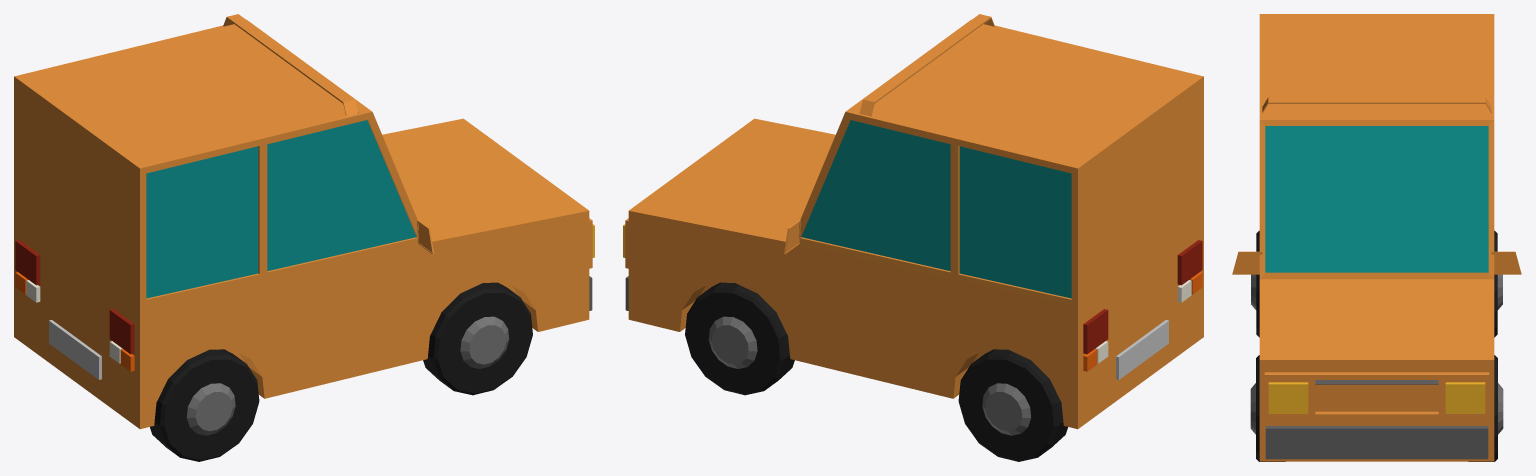
The model's file is car_2.gltf.
3 renders of one model, left to right at view 1: azimuth 30°, elevation 25°; view 2: azimuth 150°, elevation 25°; view 3: azimuth 270°, elevation 25°, orthographic. The views are drawn at different scales.
Parts seen in each view (by area): view 1: 1_Macchina.002_Multicolor_0; view 2: 1_Macchina.002_Multicolor_0; view 3: 1_Macchina.002_Multicolor_0.
Boxes of the visible parts, left/top/right/bottom form: 1_Macchina.002_Multicolor_0: left=14, top=14, right=594, bottom=461; 1_Macchina.002_Multicolor_0: left=623, top=14, right=1203, bottom=461; 1_Macchina.002_Multicolor_0: left=1232, top=14, right=1521, bottom=461.
Size of the model in its own units: 2.87 by 1.89 by 1.66.
Materials: 1 (1 with a texture image).
